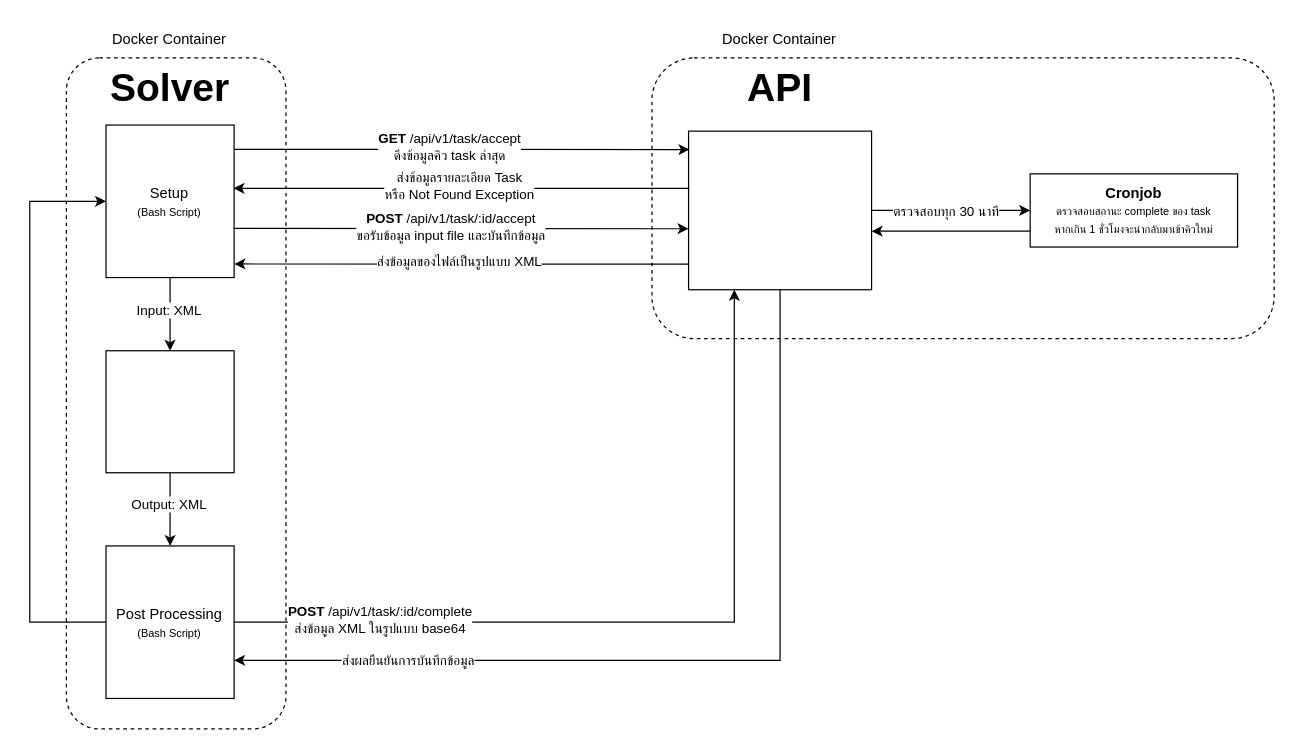
The diagram is 1296 pixels wide and 750 high, and some of its shapes have lost their labels. The centre of each missing label's shape, as x and y in pixels:
CPSolver: point 169,411
Task Management: point 779,210
